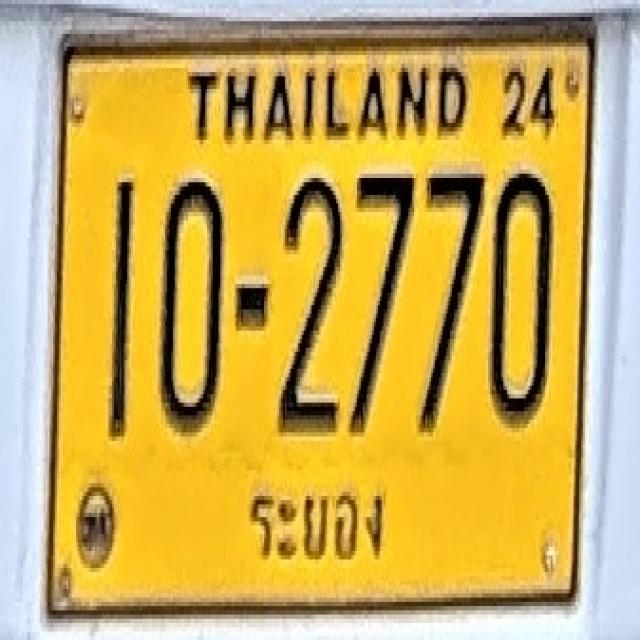0: (489, 165, 552, 424), (159, 176, 223, 430)
1: (109, 176, 132, 434)
2: (279, 172, 342, 430)
7: (349, 165, 414, 432), (419, 165, 483, 432)
RYG: (242, 465, 393, 582)
